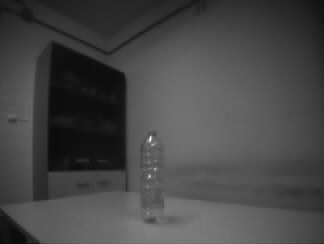Bottle: (139, 127, 166, 224)
